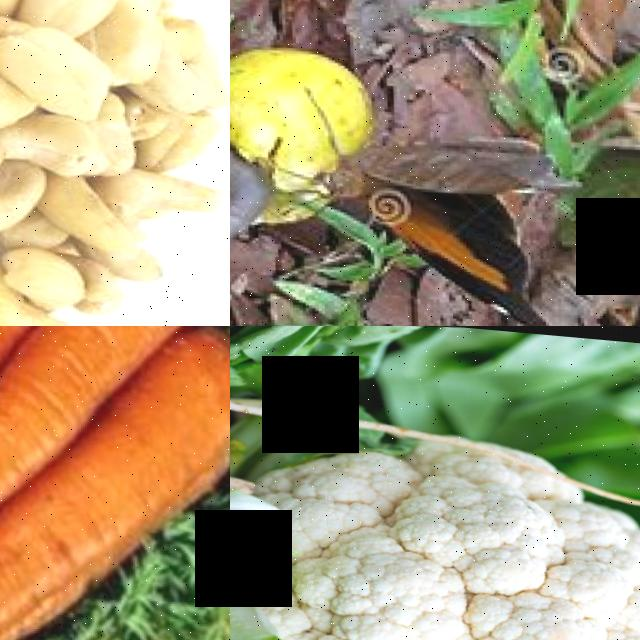carrot: (35, 424, 230, 640), (80, 326, 225, 404)
cashew: (9, 39, 107, 121), (0, 236, 92, 312), (0, 113, 97, 173), (230, 136, 277, 250), (52, 171, 130, 238), (0, 171, 42, 241), (23, 0, 120, 27), (0, 293, 68, 326)
cauliflower: (230, 366, 640, 640)
